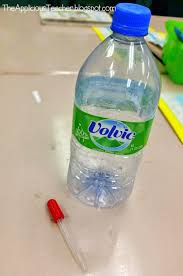bottle: (62, 4, 156, 220)
